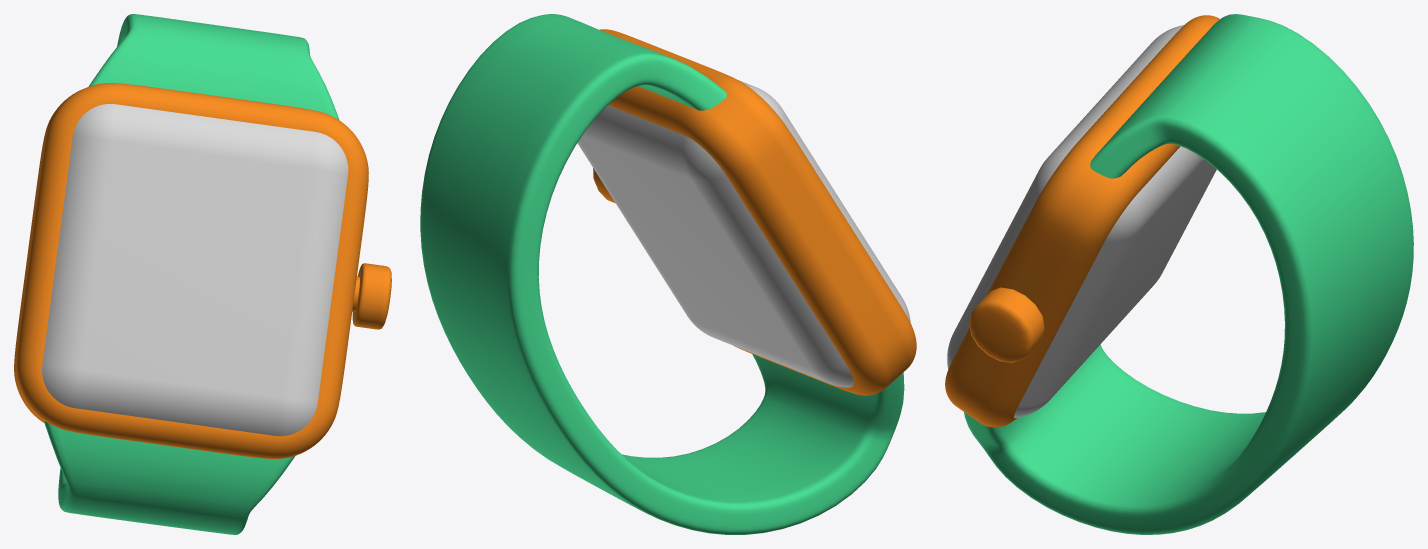
The model's file is smartwatch-3d-icon-1242112294906.glb.
3 views of the same model, side by side, from view 1: azimuth 30°, elevation 25°; view 2: azimuth 150°, elevation 25°; view 3: azimuth 270°, elevation 25° (orthographic). The views are drawn at different scales.
Parts seen in each view (by area): view 1: Screen, Strap, Body; view 2: Strap, Screen, Body; view 3: Strap, Body, Screen.
Boxes of the visible parts, bbox=[...] form: Screen: bbox=[42, 104, 348, 436]; Strap: bbox=[44, 14, 339, 534]; Body: bbox=[14, 83, 391, 458]; Strap: bbox=[420, 14, 904, 534]; Screen: bbox=[577, 80, 910, 387]; Body: bbox=[593, 29, 916, 395]; Strap: bbox=[964, 14, 1413, 534]; Body: bbox=[945, 15, 1219, 427]; Screen: bbox=[947, 25, 1216, 417].
Bounding box in the file's own units: 2.62 × 3.16 × 2.71.
